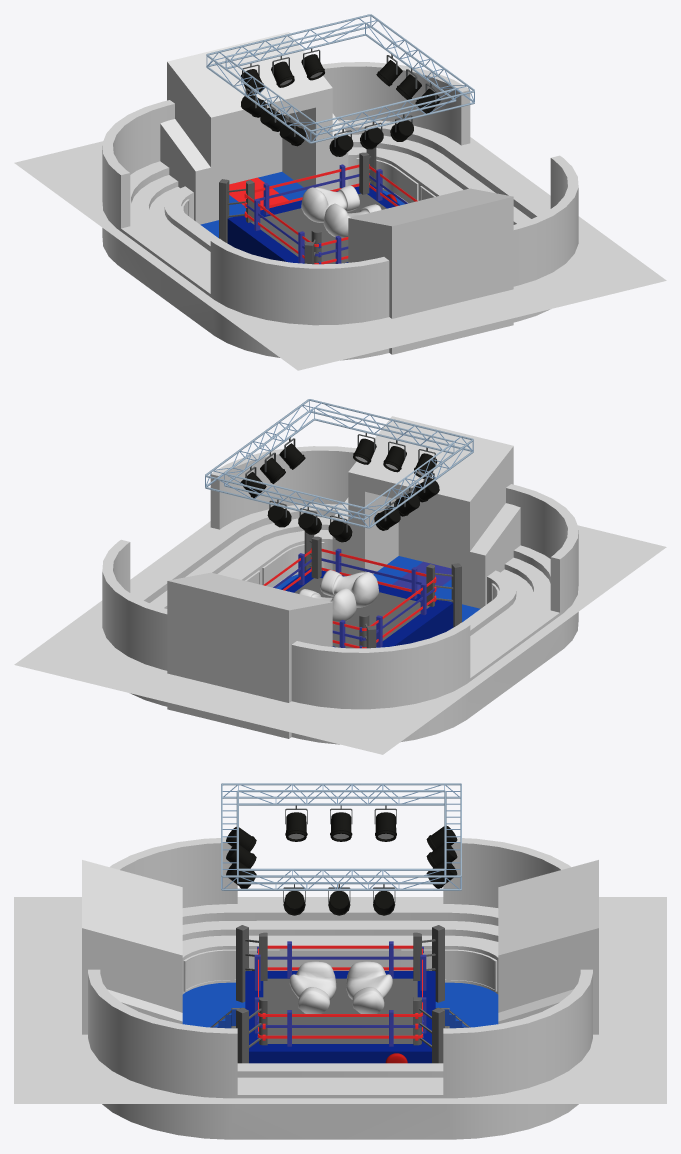
Rendered from Action.fbx.
3 renders of one model, top to bottom at view 1: azimuth 30°, elevation 25°; view 2: azimuth 150°, elevation 25°; view 3: azimuth 270°, elevation 25°, orthographic. The views are drawn at different scales.
Parts seen in each view (by area): view 1: Cube.086, Cube.030, Cube.328, Cube.040, Cylinder.698, Cube.349, Cube.117, Cube.027, Boxing Glove.001, Cube.438, Cube.346, Cylinder.034 (+10 smaller); view 2: Cube.086, Cube.030, Cube.328, Cube.040, Cylinder.698, Cube.349, Cube.117, Cube.027, Boxing Glove.001, Cube.438, Cube.346, Cylinder.041 (+10 smaller); view 3: Cube.086, Cube.328, Cube.030, Cube.040, Cube.349, Cube.027, Cylinder.698, Cube.094, Cube.038, Boxing Glove.001, Cube.347, Cube.346 (+11 smaller).
Part boxes in pixels (<box>): Cube.086: <box>102,62,578,360</box>; Cube.030: <box>167,32,513,354</box>; Cube.328: <box>14,137,666,370</box>; Cube.040: <box>130,119,548,284</box>; Cylinder.698: <box>206,14,474,143</box>; Cube.349: <box>227,183,399,263</box>; Cube.117: <box>160,113,348,224</box>; Cube.027: <box>164,147,453,251</box>; Boxing Glove.001: <box>301,185,381,238</box>; Cube.438: <box>206,16,474,141</box>; Cube.346: <box>245,164,417,264</box>; Cylinder.034: <box>241,48,324,94</box>; Cube.086: <box>102,446,578,744</box>; Cube.030: <box>167,416,513,738</box>; Cube.328: <box>14,521,666,754</box>; Cube.040: <box>132,504,550,668</box>; Cylinder.698: <box>205,399,473,528</box>; Cube.349: <box>280,568,453,648</box>; Cube.117: <box>332,497,520,608</box>; Cube.027: <box>227,532,516,635</box>; Boxing Glove.001: <box>299,570,379,622</box>; Cube.438: <box>205,401,473,526</box>; Cube.346: <box>263,548,435,648</box>; Cylinder.041: <box>353,433,437,479</box>; Cube.086: <box>88,837,592,1139</box>; Cube.328: <box>14,897,666,1103</box>; Cube.030: <box>82,860,598,1034</box>; Cube.040: <box>182,904,498,1089</box>; Cube.349: <box>245,971,435,1063</box>; Cube.027: <box>182,937,498,1077</box>; Cylinder.698: <box>221,783,461,890</box>; Cube.094: <box>183,949,497,991</box>; Cube.038: <box>182,982,498,1027</box>; Boxing Glove.001: <box>289,961,392,1013</box>; Cube.347: <box>236,925,444,1063</box>; Cube.346: <box>258,945,422,1038</box>.
Bounding box in the file's own units: 1200 × 1600 × 575.
